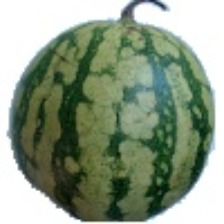watermelon: (51, 36, 215, 181)
